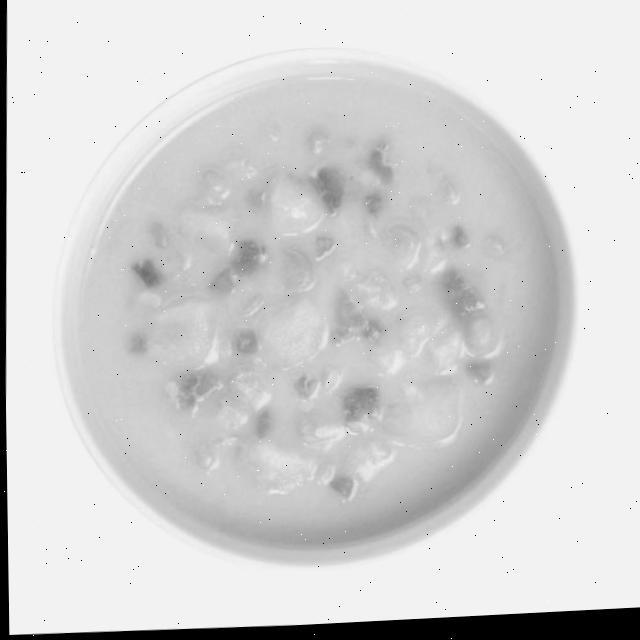汤锅炖物: (31, 34, 596, 599)
